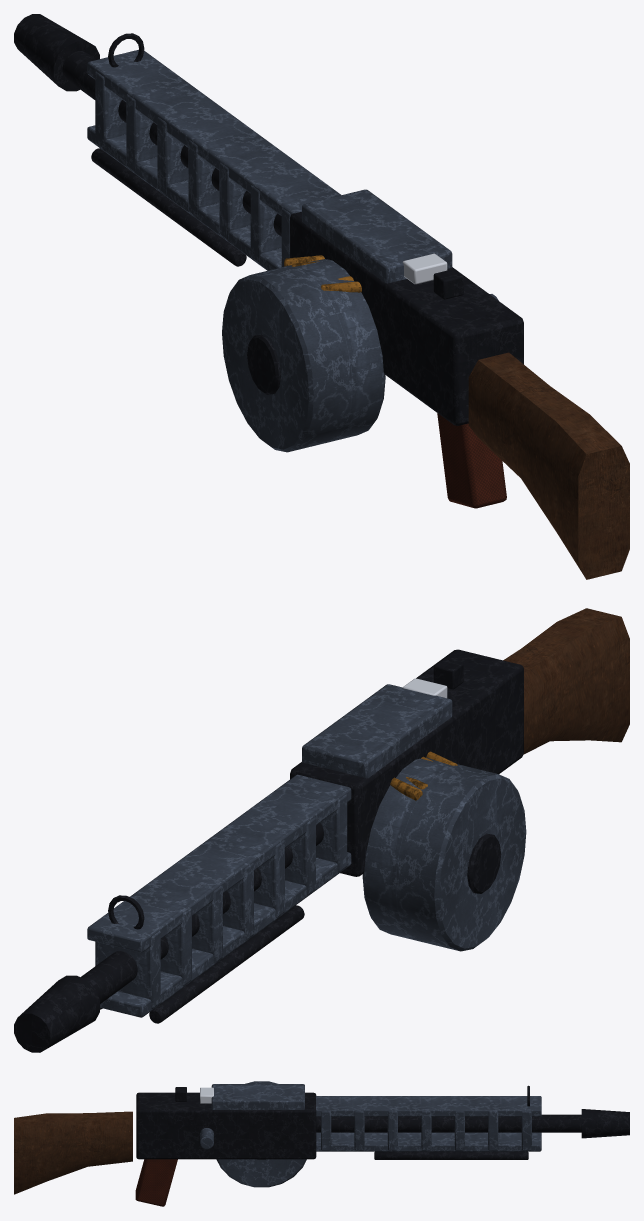
The picture shows the model from 3 angles, top to bottom: view 1: azimuth 30°, elevation 25°; view 2: azimuth 150°, elevation 25°; view 3: azimuth 270°, elevation 25°; orthographic projection. The views are drawn at different scales.
Visible parts, largest first — view 1: Receiver, Drum, FeedCover; view 2: Receiver, Drum, FeedCover; view 3: Receiver, FeedCover, Drum, Bolt.
Part boxes in pixels (box(x1,y1,x2,y2)): Receiver: box(14, 14, 629, 579); Drum: box(222, 255, 385, 452); FeedCover: box(302, 189, 452, 284); Receiver: box(14, 608, 629, 1052); Drum: box(362, 751, 526, 951); FeedCover: box(302, 678, 452, 778); Receiver: box(14, 1085, 629, 1206); FeedCover: box(200, 1084, 304, 1109); Drum: box(216, 1081, 306, 1187); Bolt: box(200, 1128, 213, 1149).
Bounding box in the file's own units: 0.177 × 0.1996 × 0.9575.
Materials: 7 (5 with a texture image).
